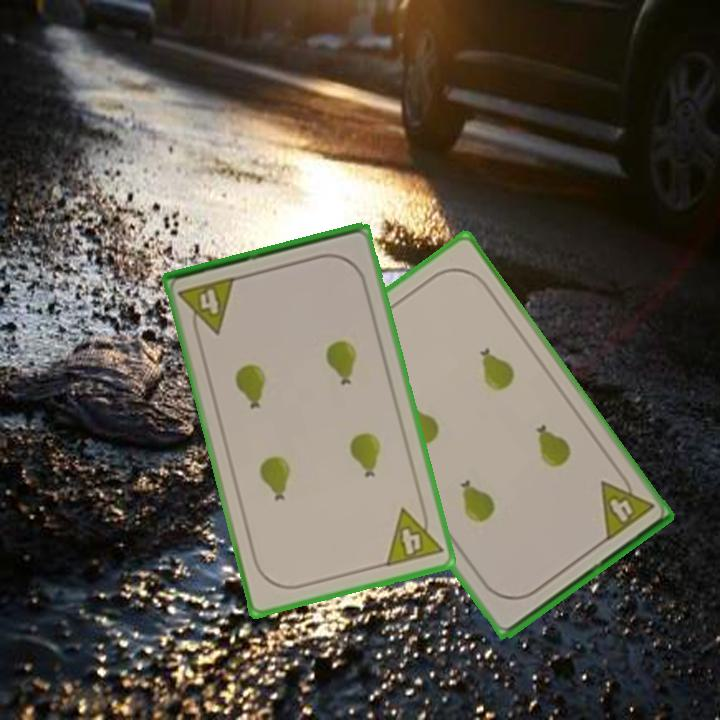4p: (596, 467, 657, 544), (382, 500, 446, 570), (175, 273, 239, 341)
